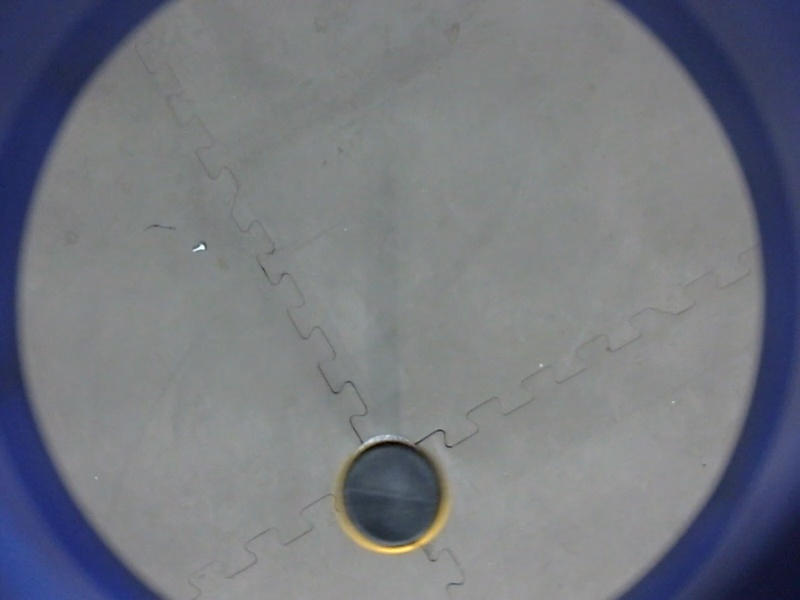tip: (328, 430, 457, 561)
